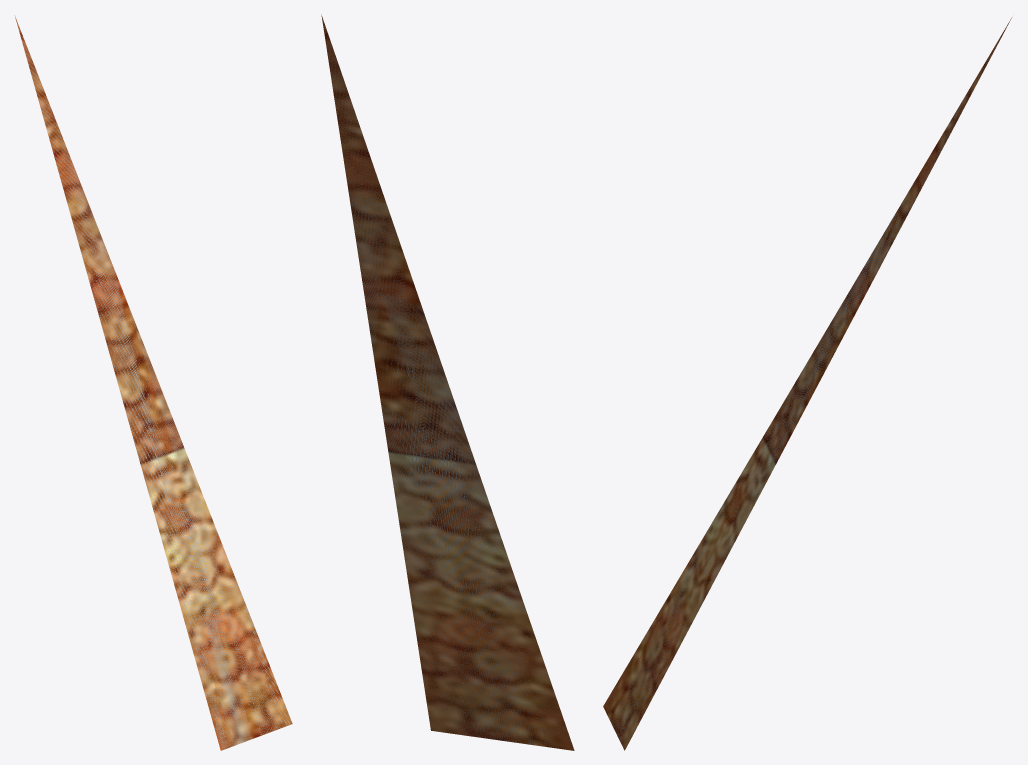
Rendered from 西庸城堡600.dae.
3 renders of one model, left to right at view 1: azimuth 30°, elevation 25°; view 2: azimuth 150°, elevation 25°; view 3: azimuth 270°, elevation 25°, orthographic. The views are drawn at different scales.
Visible parts, largest first — view 1: SketchUp; view 2: SketchUp; view 3: SketchUp.
Part boxes in pixels (x1=…): SketchUp: x1=14, y1=15, x2=292, y2=750; SketchUp: x1=321, y1=14, x2=574, y2=750; SketchUp: x1=603, y1=18, x2=1011, y2=750.
Size of the model in its own units: 21.22 by 64.67 by 118.
